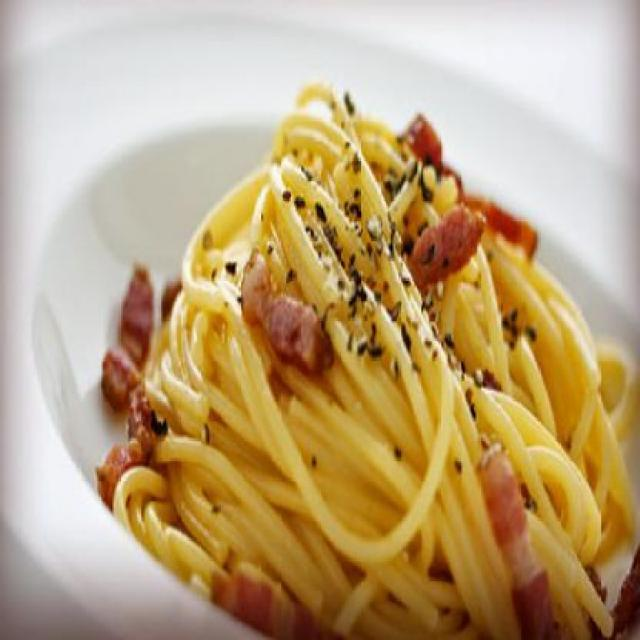Pasta with carbonara sauce: (40, 54, 598, 622)
